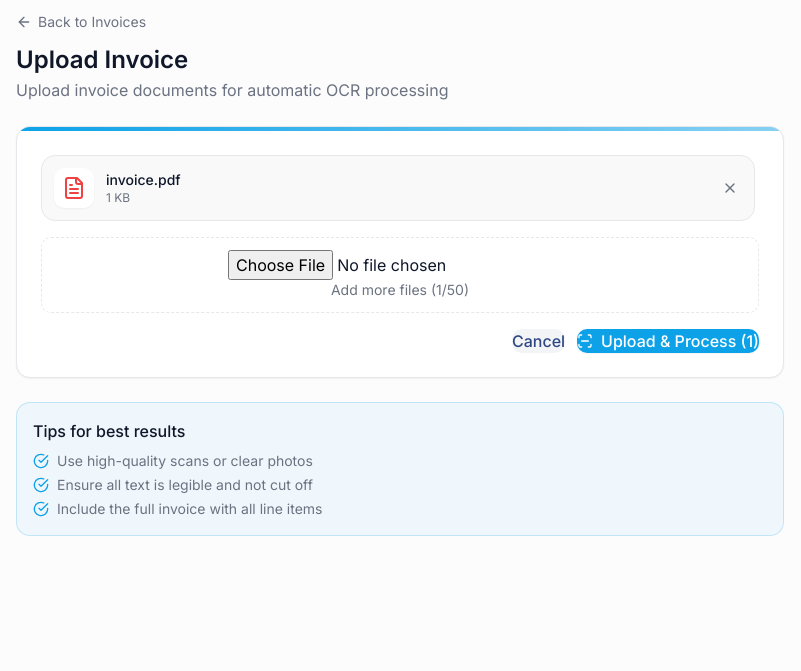
PostUploadTracker › after single-file upload, does NOT redirect and renders "Extracting data…" row
Check: the text "invoice.pdf" is shown, box [106, 171, 181, 188]
Click the button "Upload & Process (1)": (668, 341) [577, 329, 759, 353]
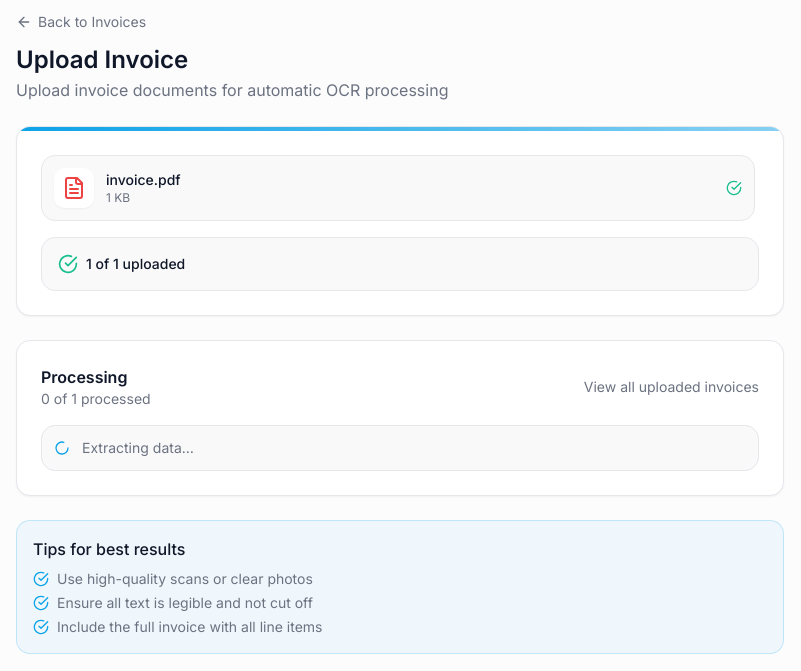
Check: the text "Extracting data…" is shown, box [82, 438, 194, 458]
